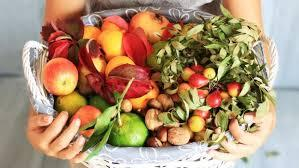Organic: (31, 10, 284, 157)
